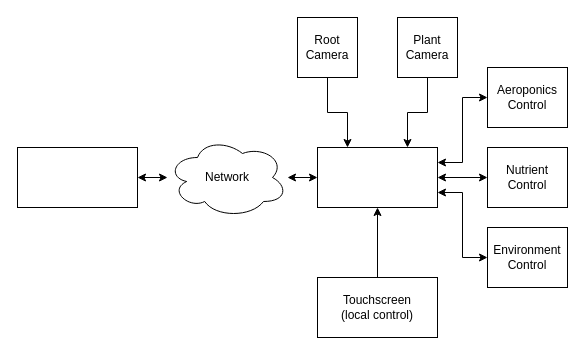
Image size: 585x355. Some labels were removed from this diagram. The shapes that lost their labels are listed below. From the top down, each one's centre as x and y in pixels, then its label:
At (77,177): "Web UI (remote control)".
At (377,177): "Raspberry Pi".
